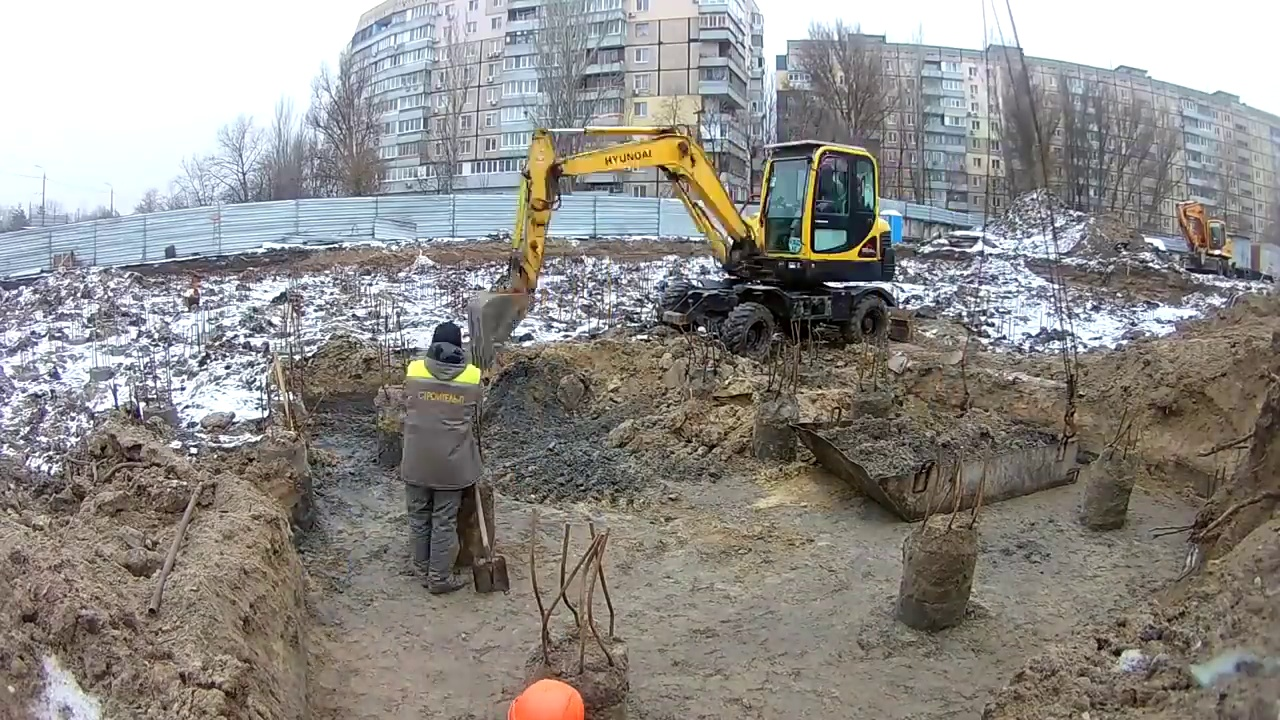helmet: (504, 673, 588, 720)
helmet-off: (425, 321, 466, 377)
person: (394, 321, 489, 597)
